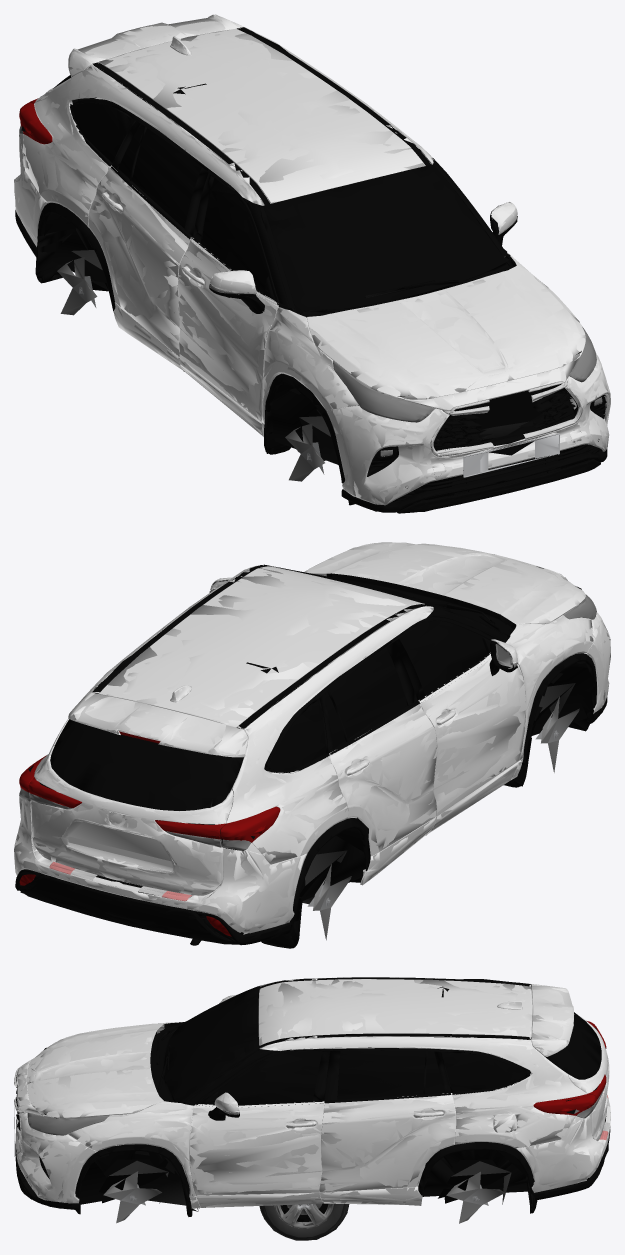
File: suv15.glb
3 views of the same model, one above another, from view 1: azimuth 30°, elevation 25°; view 2: azimuth 150°, elevation 25°; view 3: azimuth 270°, elevation 25° (orthographic). The views are drawn at different scales.
Parts seen in each view (by area): view 1: body0, body2, body1; view 2: body0, body2, body1; view 3: body0, body2, body1, wheel0, wheel1.
Boxes of the visible parts, x1,y1,x2,y2 form: body0: (14,14,610,513); body2: (14,14,610,511); body1: (14,15,610,513); body0: (14,542,610,948); body2: (14,542,610,942); body1: (14,542,609,947); body0: (14,977,610,1216); body2: (14,978,610,1223); body1: (14,977,610,1216); wheel0: (259,1203,349,1240); wheel1: (263,1203,347,1240).
Size of the model in its own units: 2.2 by 2.15 by 4.93.
